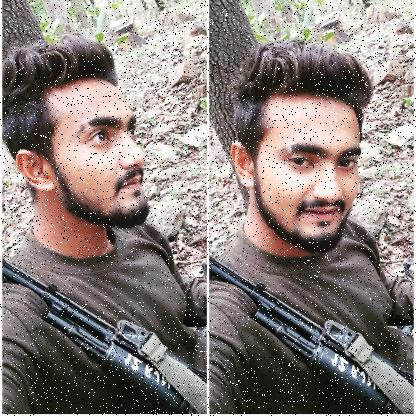rifle: (209, 259, 414, 414), (3, 259, 206, 414)
